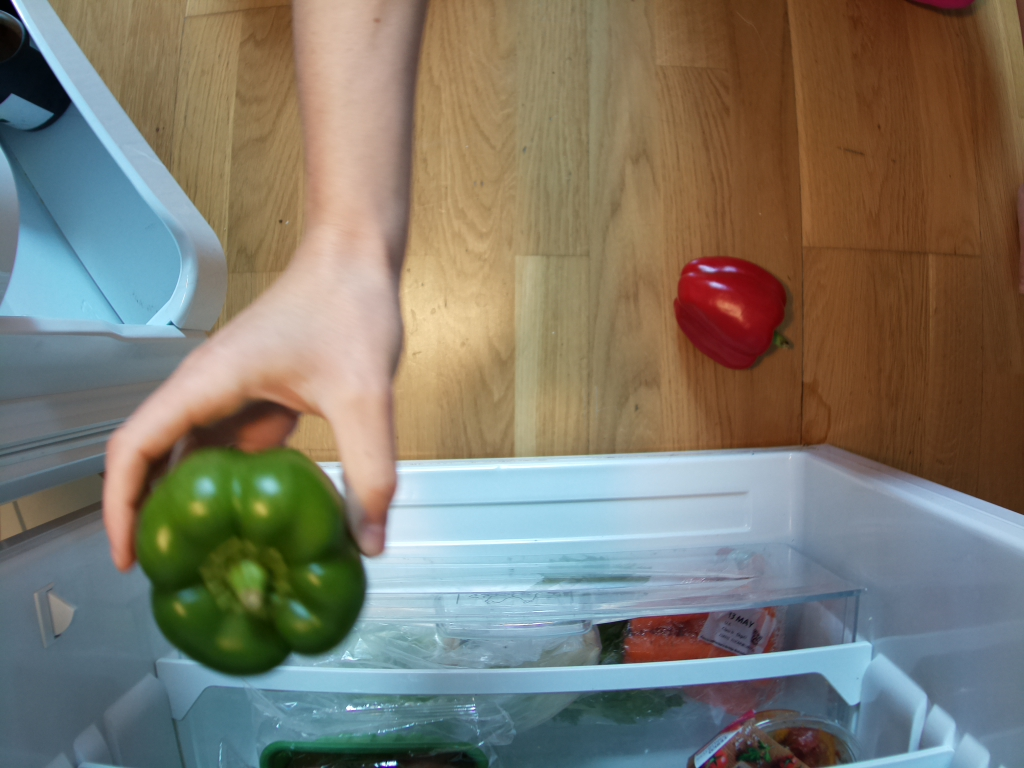pepper: (135, 448, 367, 675), (669, 256, 798, 374)
